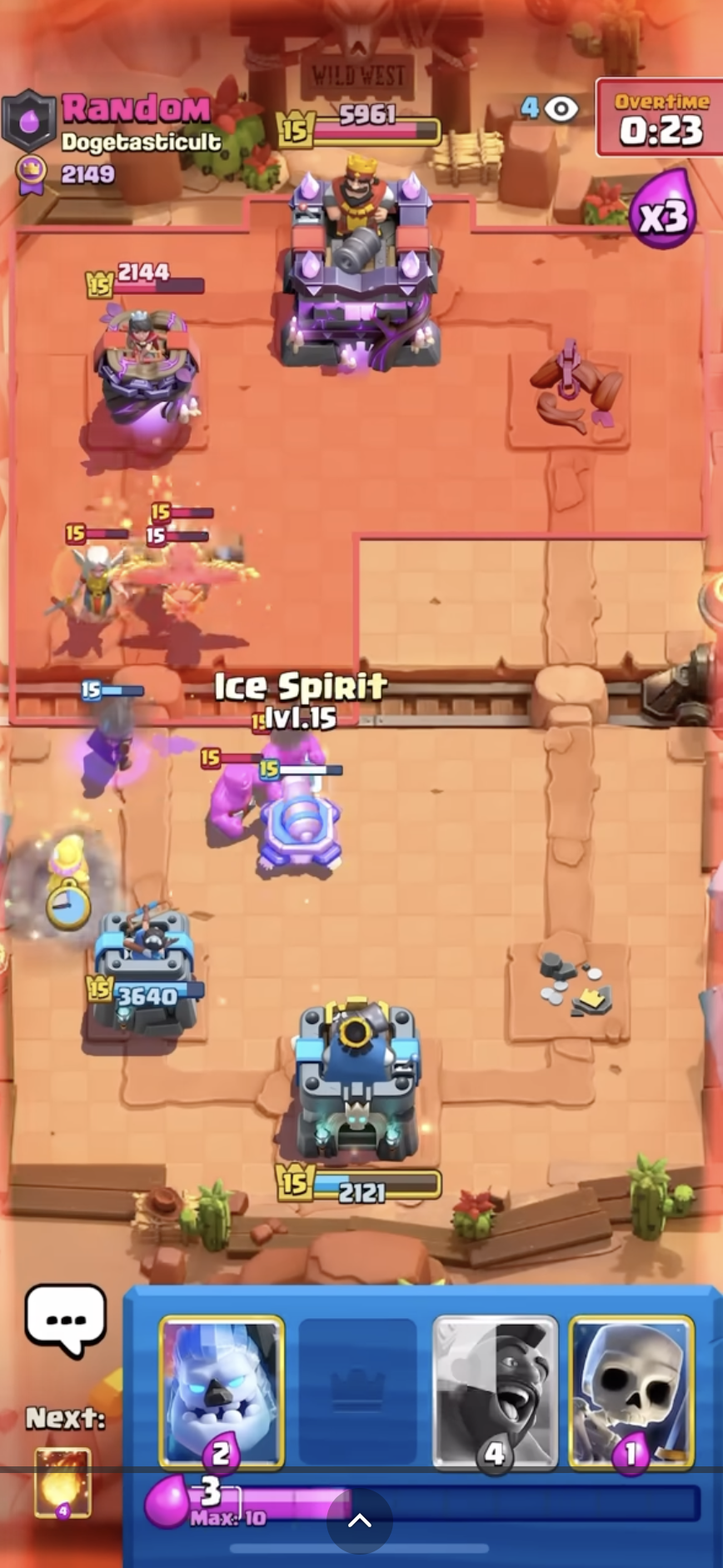cannon: (253, 761, 353, 880)
evo-musketeer: (72, 675, 166, 787)
